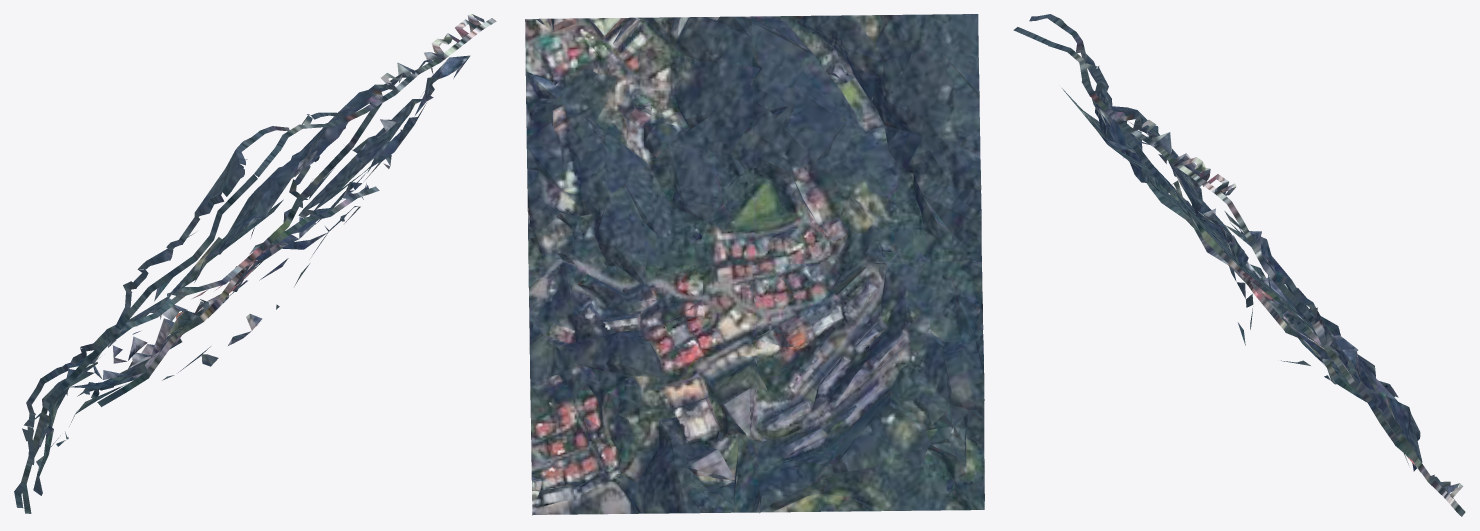
3 renders of one model, left to right at view 1: azimuth 30°, elevation 25°; view 2: azimuth 150°, elevation 25°; view 3: azimuth 270°, elevation 25°, orthographic. The views are drawn at different scales.
Size of the model in its own units: 664 by 548 by 565.
Materials: 2 (2 with a texture image).
